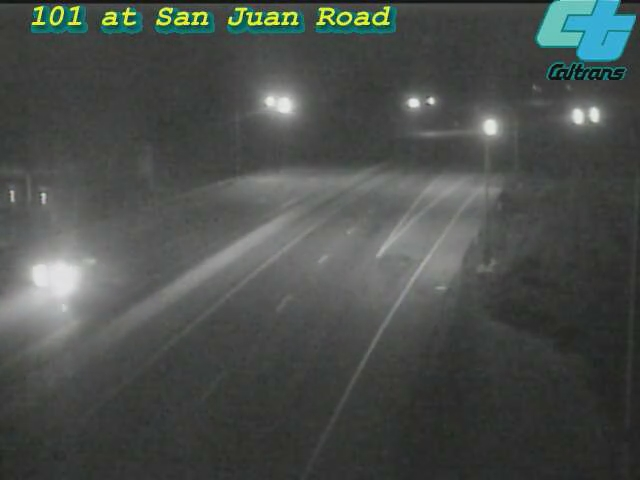vehicle: (9, 238, 89, 318), (468, 101, 518, 151), (549, 91, 599, 141), (569, 90, 619, 140)
